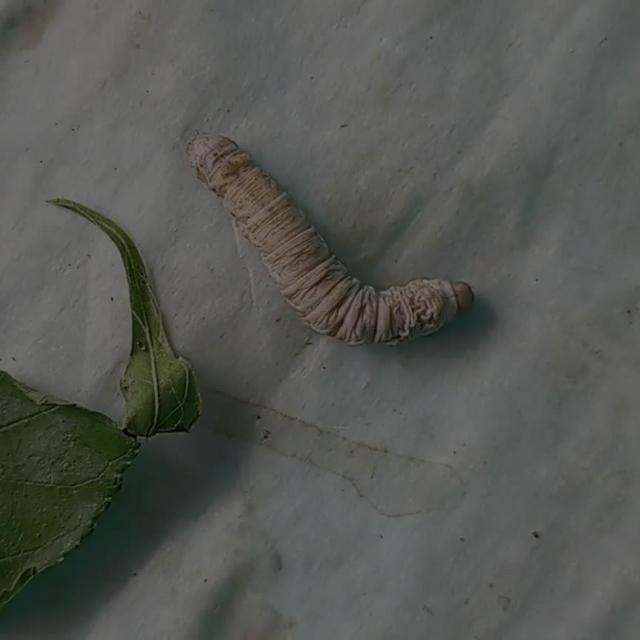Grasserie: (188, 115, 489, 358)
